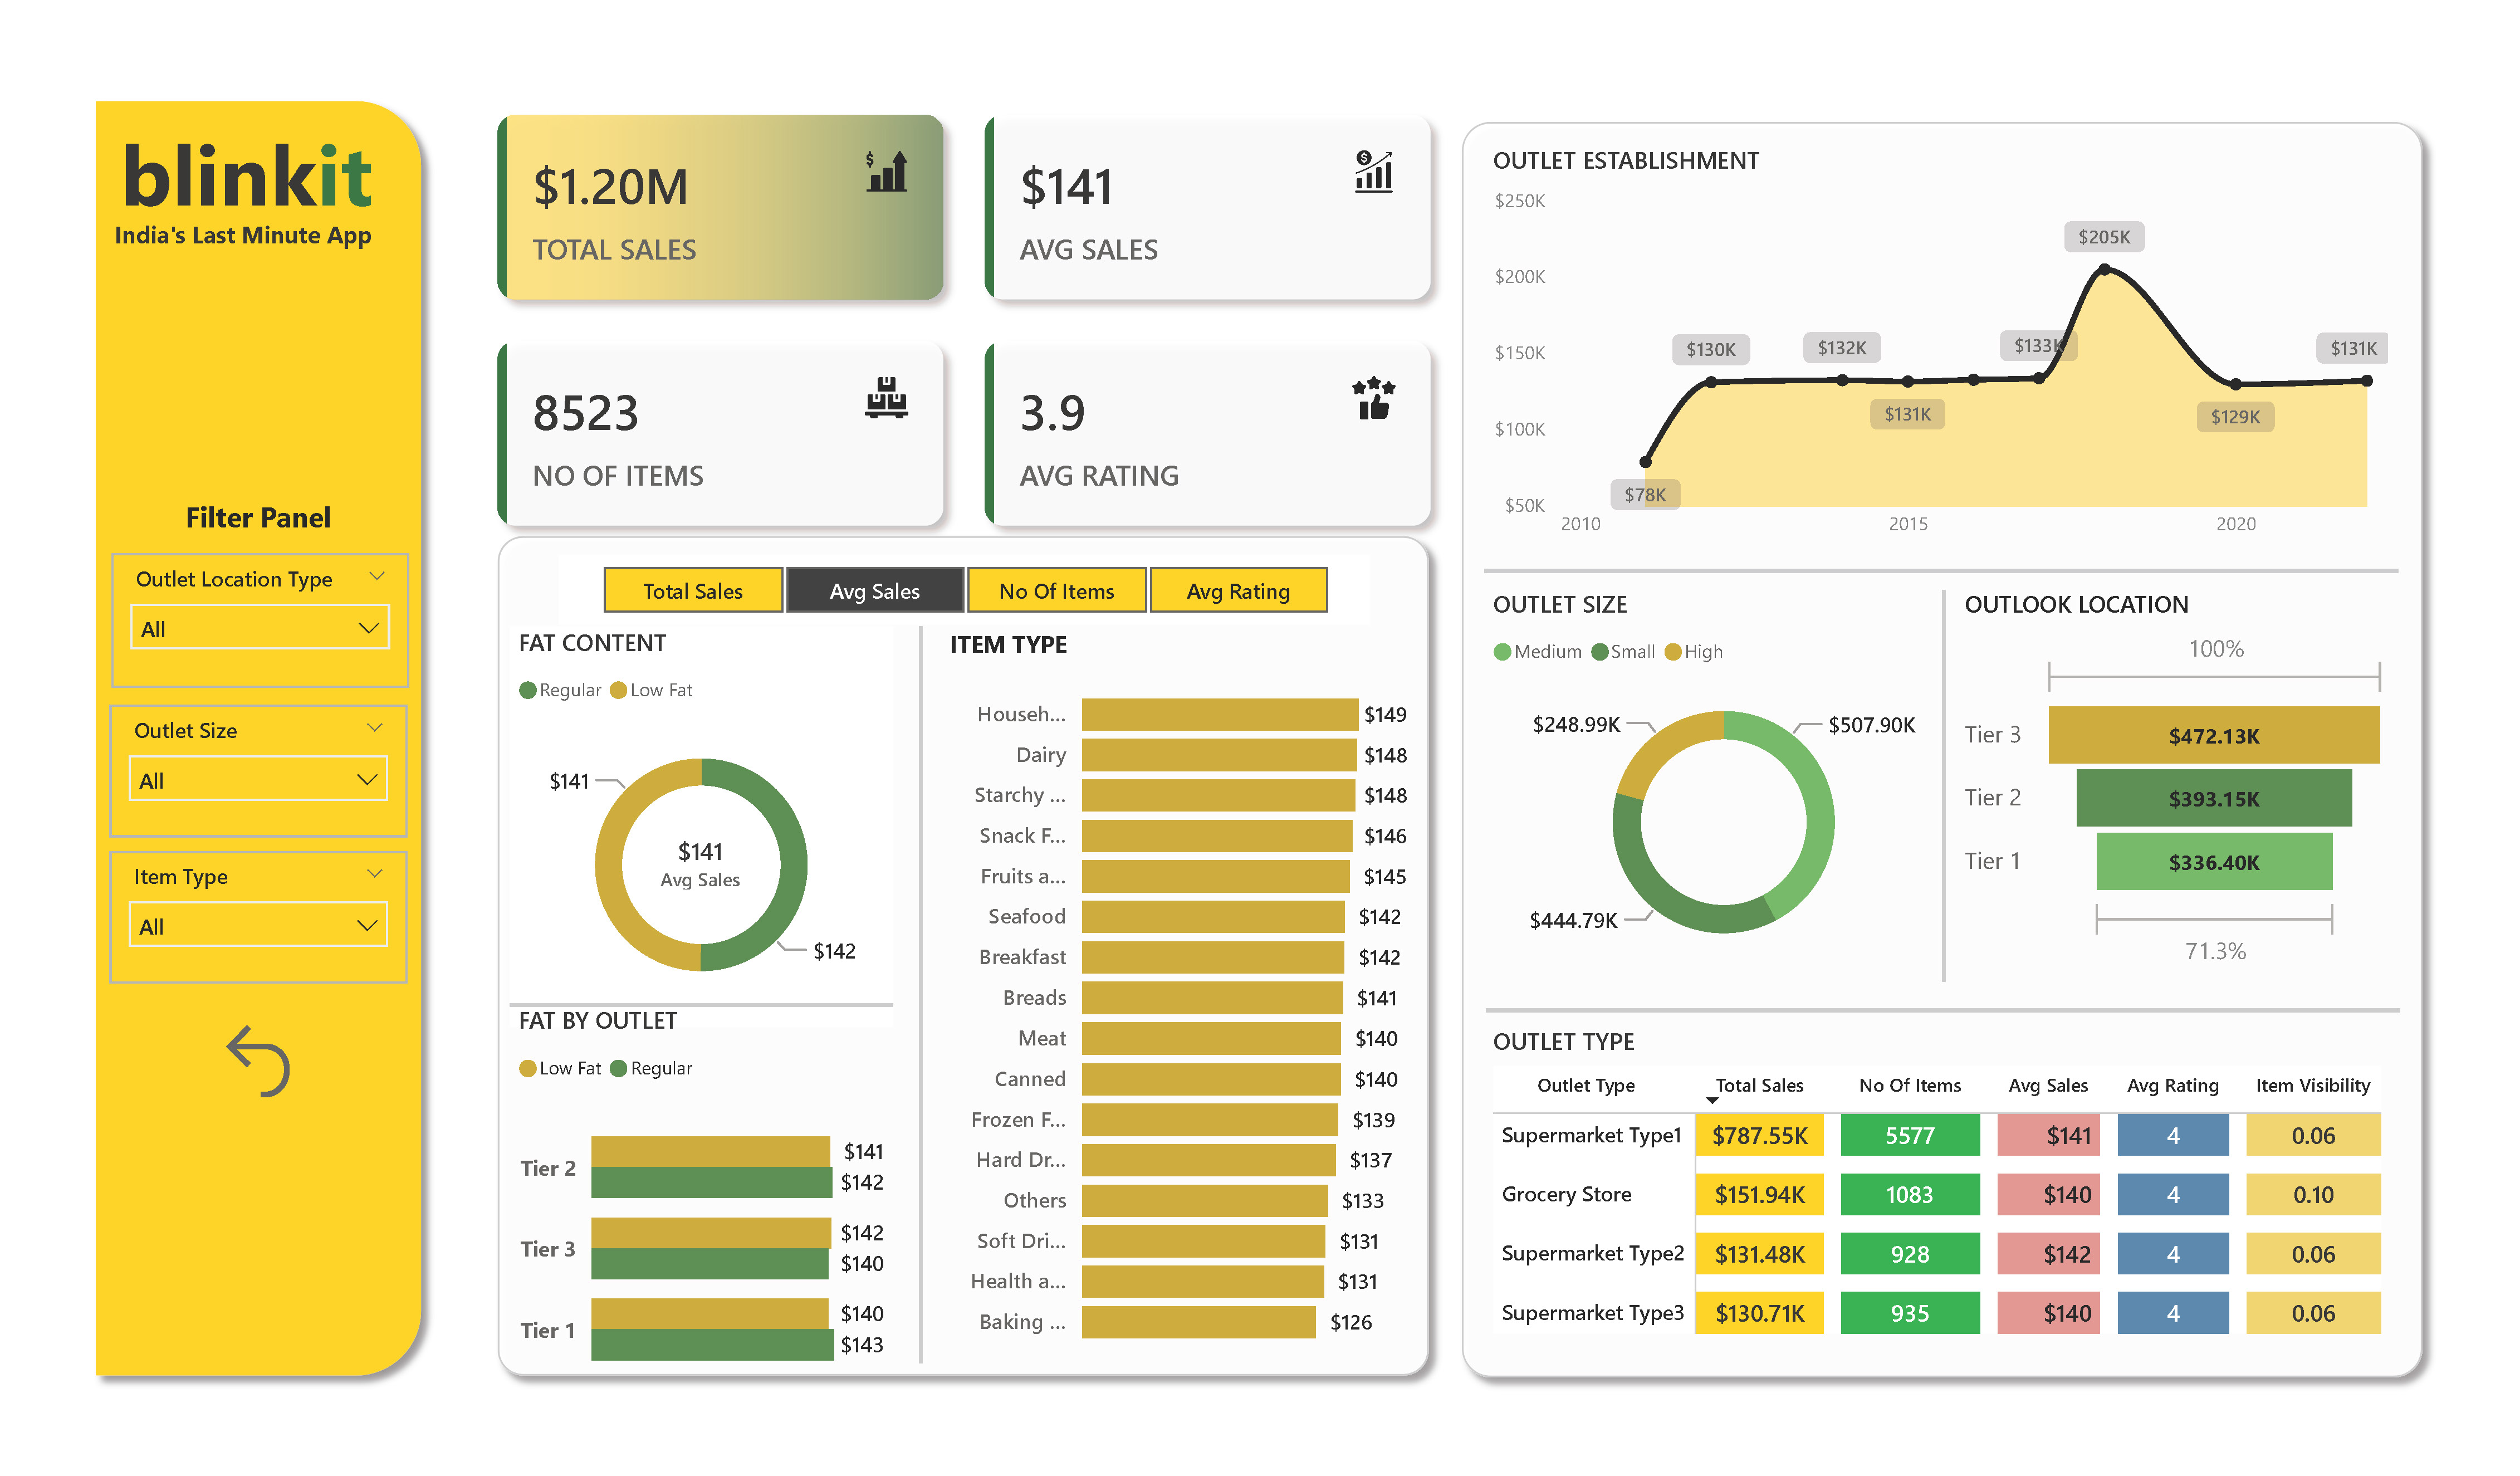

The page's visual inventory and layout, read from the dashboard file:
{"tool":"powerbi","page":{"name":"Page 1","canvas":[1400,800],"ordinal":0},"visuals":[{"type":"shape","box":[21.7,25,205,750],"z":0},{"type":"textbox","box":[40,37.3,168,78.7],"z":1000},{"type":"textbox","box":[36.7,96.7,174.7,38.7],"z":2000},{"type":"cardVisual","fields":{"Data":["BlinkIT Grocery Data.Total Sales","BlinkIT Grocery Data.Avg Sales","BlinkIT Grocery Data.No Of Items","BlinkIT Grocery Data.Avg Rating"]},"box":[245,25,570,270],"z":3000},{"type":"shape","box":[252.5,275,553.8,500],"z":4000},{"type":"donutChart","title":"FAT CONTENT","fields":{"Y":["BlinkIT Grocery Data.Avg Sales"],"Category":["BlinkIT Grocery Data.Item Fat Content"]},"box":[269,336,220,230],"z":5000},{"type":"cardVisual","fields":{"Data":["BlinkIT Grocery Data.Avg Sales"]},"box":[332,438,93,54],"z":6000},{"type":"clusteredBarChart","title":"FAT  BY OUTLET","fields":{"Y":["BlinkIT Grocery Data.Avg Sales"],"Series":["BlinkIT Grocery Data.Item Fat Content"],"Category":["BlinkIT Grocery Data.Outlet Location Type"]},"box":[268.9,553.3,220,230],"z":7000},{"type":"shape","box":[268.8,453.8,220,198.8],"z":8000},{"type":"shape","box":[395,335.8,220,423.3],"z":9000},{"type":"slicer","fields":{"Values":["Metrics.Metrics"]},"box":[297.1,295,465.7,40],"z":10000},{"type":"barChart","title":"ITEM TYPE","fields":{"Y":["BlinkIT Grocery Data.Avg Sales"],"Category":["BlinkIT Grocery Data.Item Type"]},"box":[516.7,336.7,273.3,422.2],"z":11000},{"type":"shape","box":[807.1,37.1,570,738.6],"z":12000},{"type":"lineChart","title":"OUTLET ESTABLISHMENT","fields":{"Category":["BlinkIT Grocery Data.Outlet Establishment Year"],"Y":["BlinkIT Grocery Data.Total Sales"]},"box":[829.1,59.2,525,235],"z":13000},{"type":"shape","box":[828.9,204.4,525.6,200],"z":14000},{"type":"donutChart","title":"OUTLET SIZE","fields":{"Y":["BlinkIT Grocery Data.Total Sales"],"Category":["BlinkIT Grocery Data.Outlet Size"]},"box":[829.3,314.5,275,225],"z":15000},{"type":"shape","box":[983.1,314.8,220,225.4],"z":16000},{"type":"funnel","title":"OUTLOOK LOCATION","fields":{"Y":["BlinkIT Grocery Data.Total Sales"],"Category":["BlinkIT Grocery Data.Outlet Location Type"]},"box":[1100,314.5,254,223],"z":17000},{"type":"shape","box":[830,457.3,525.5,199.1],"z":18000},{"type":"pivotTable","title":"OUTLET TYPE","fields":{"Rows":["BlinkIT Grocery Data.Outlet Type"],"Values":["BlinkIT Grocery Data.Total Sales","BlinkIT Grocery Data.No Of Items","BlinkIT Grocery Data.Avg Sales","BlinkIT Grocery Data.Avg Rating","Avg(BlinkIT Grocery Data.Item Visibility)"]},"box":[829.1,565.5,526.4,210],"z":19000},{"type":"slicer","fields":{"Values":["BlinkIT Grocery Data.Outlet Location Type"]},"box":[40,294.3,171.4,76.4],"z":20000},{"type":"slicer","fields":{"Values":["BlinkIT Grocery Data.Outlet Size"]},"box":[38.6,380.7,171.4,76.4],"z":21000},{"type":"slicer","fields":{"Values":["BlinkIT Grocery Data.Item Type"]},"box":[38.6,465,171.4,76.4],"z":22000},{"type":"textbox","box":[71,257.4,107.2,34.9],"z":23000},{"type":"actionButton","box":[97.9,556.3,53.6,57.6],"z":23002}]}

Visuals, with their boxes in screenshot pixels (x1, y1, x2, y2):
shape: crop(80, 85, 436, 1391)
textbox: crop(111, 107, 404, 244)
textbox: crop(106, 210, 410, 277)
cardVisual - BlinkIT Grocery Data.Total Sales x BlinkIT Grocery Data.Avg Sales: crop(468, 85, 1460, 555)
shape: crop(481, 520, 1445, 1391)
"FAT CONTENT" donutChart: crop(510, 627, 893, 1027)
cardVisual - BlinkIT Grocery Data.Avg Sales: crop(619, 804, 781, 898)
"FAT  BY OUTLET" clusteredBarChart: crop(510, 1005, 893, 1405)
shape: crop(510, 832, 892, 1177)
shape: crop(729, 626, 1112, 1363)
slicer - Metrics.Metrics: crop(559, 555, 1369, 625)
"ITEM TYPE" barChart: crop(941, 628, 1417, 1363)
shape: crop(1446, 106, 2438, 1392)
"OUTLET ESTABLISHMENT" lineChart: crop(1485, 145, 2399, 554)
shape: crop(1484, 398, 2399, 746)
"OUTLET SIZE" donutChart: crop(1485, 589, 1964, 981)
shape: crop(1753, 590, 2136, 982)
"OUTLOOK LOCATION" funnel: crop(1956, 589, 2398, 978)
shape: crop(1486, 838, 2401, 1184)
"OUTLET TYPE" pivotTable: crop(1485, 1026, 2401, 1391)
slicer - BlinkIT Grocery Data.Outlet Location Type: crop(111, 554, 410, 687)
slicer - BlinkIT Grocery Data.Outlet Size: crop(109, 705, 407, 837)
slicer - BlinkIT Grocery Data.Item Type: crop(109, 851, 407, 984)
textbox: crop(165, 490, 352, 550)
actionButton: crop(212, 1010, 305, 1110)
